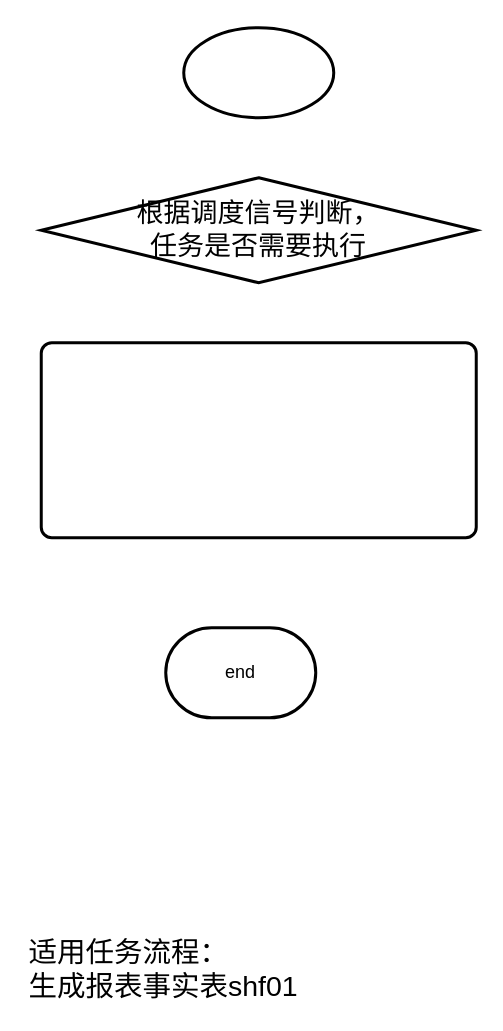
The diagram is 503 pixels wide and 1031 high, and some of its shapes have lost their labels. Each missing label, with the centre of its shape:
start: the point at 258,72
获取报表中间结果m_security_hold_calc表中的数据，关联维度表，将新的报表结果插入到fact_security_hold表中: the point at 258,439
